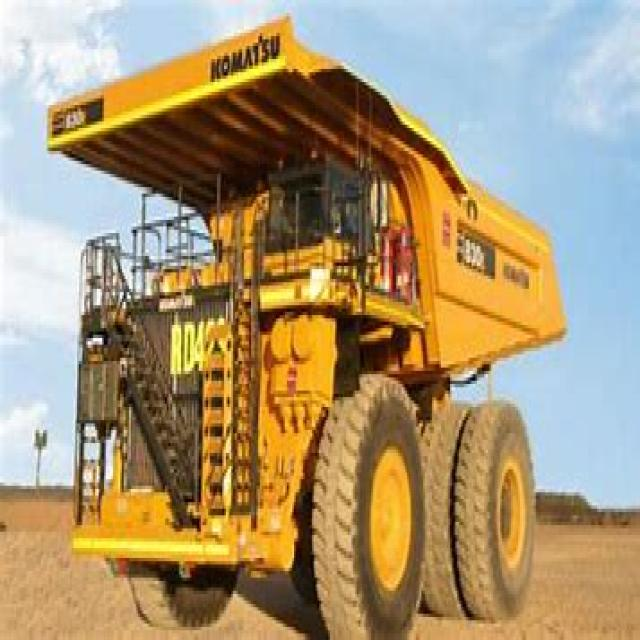dump_truck: (39, 13, 560, 630)
